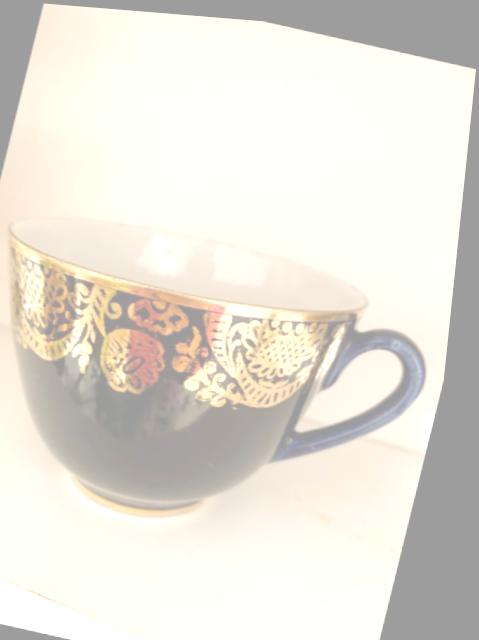Cup: (9, 218, 425, 516)
